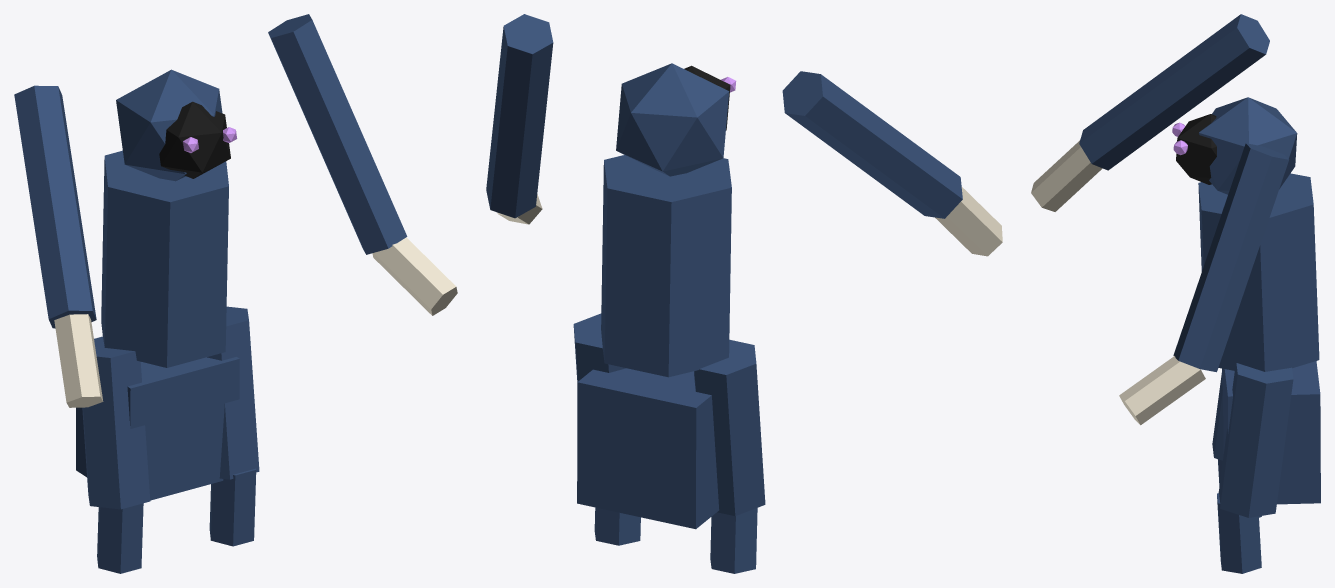
File: npcpose_wraith_attack_08.glb
The picture shows the model from 3 angles, left to right: view 1: azimuth 30°, elevation 25°; view 2: azimuth 150°, elevation 25°; view 3: azimuth 270°, elevation 25°; orthographic projection. The views are drawn at different scales.
Parts seen in each view (by area): view 1: npcpose; view 2: npcpose; view 3: npcpose.
Part boxes in pixels (<box>): npcpose: <box>14,14,457,573</box>; npcpose: <box>486,14,1002,573</box>; npcpose: <box>1031,14,1320,573</box>.
Size of the model in its own units: 1.01 by 1.1 by 0.6263.
